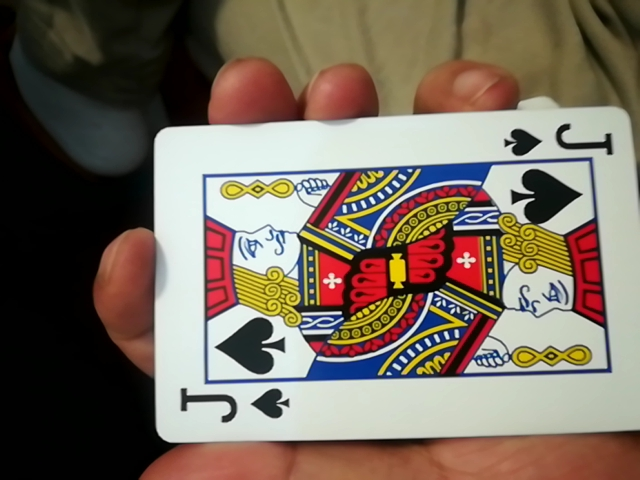ht j: (141, 105, 634, 453)
